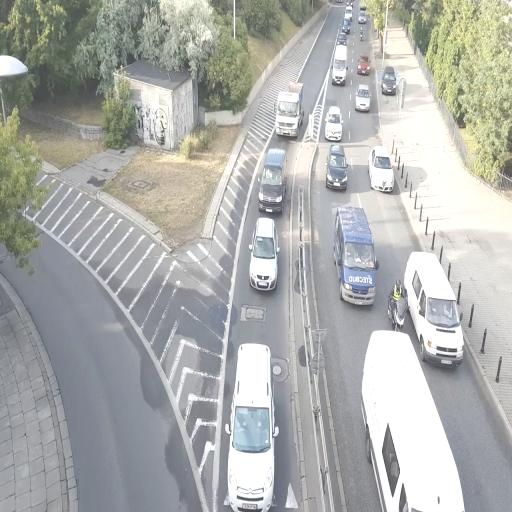vehicle: (360, 328, 466, 510), (227, 342, 275, 511), (404, 250, 464, 368), (404, 250, 464, 367), (332, 204, 378, 306), (249, 216, 278, 292), (256, 149, 286, 216), (257, 148, 286, 216), (274, 82, 305, 138), (367, 146, 394, 193), (386, 280, 409, 330), (326, 145, 348, 191), (324, 104, 343, 142), (355, 84, 372, 113), (380, 68, 398, 95), (357, 56, 371, 76)
